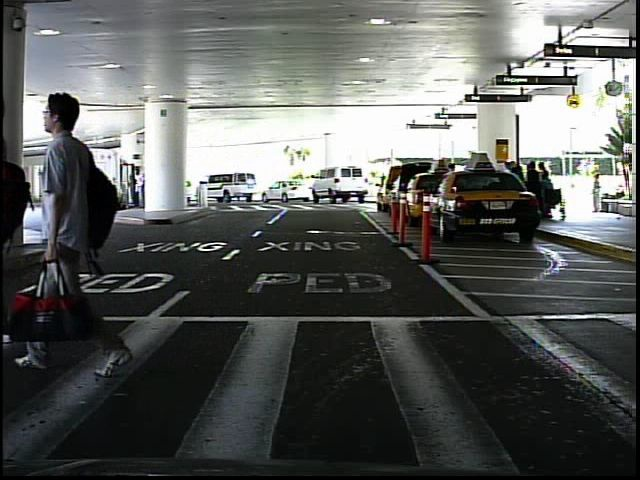person: (42, 68, 139, 385), (588, 172, 607, 218), (50, 171, 54, 215)
